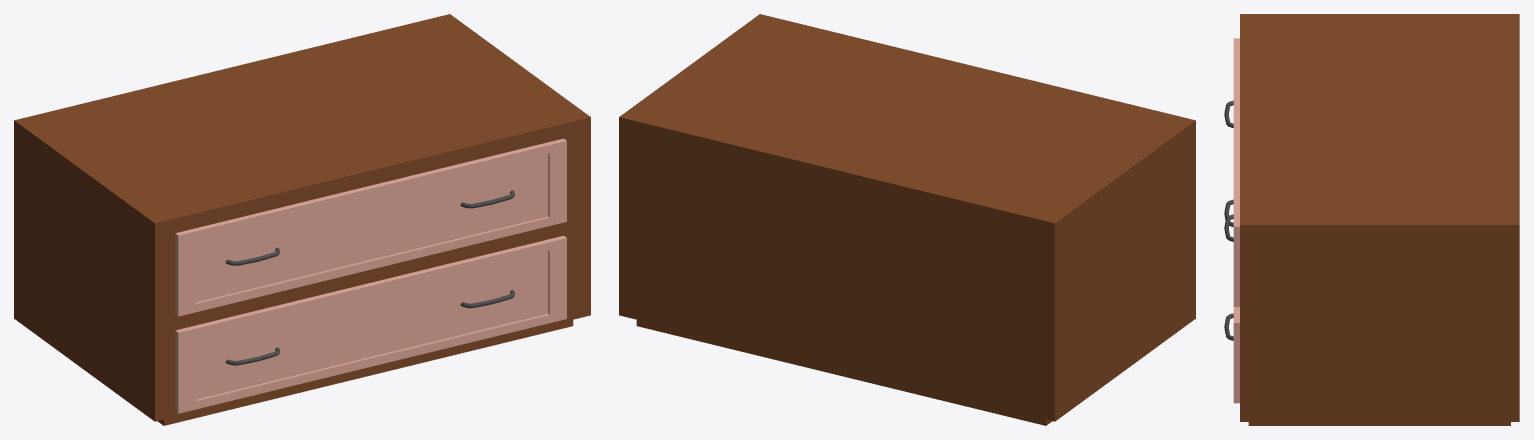
Rendered from SM_Comptoir04.fbx.
3 renders of one model, left to right at view 1: azimuth 30°, elevation 25°; view 2: azimuth 150°, elevation 25°; view 3: azimuth 270°, elevation 25°, orthographic.
Visible parts, largest first — view 1: Cube.048, Cube.053, CurlyCurve.012; view 2: Cube.048; view 3: Cube.048, Cube.053, CurlyCurve.012.
Part boxes in pixels (x1,y1,x2,y2): Cube.048: (14,14,590,425); Cube.053: (175,138,566,413); CurlyCurve.012: (225,190,514,365); Cube.048: (619,14,1195,425); Cube.048: (1240,14,1519,425); Cube.053: (1233,38,1239,403); CurlyCurve.012: (1224,100,1233,340).
Bounding box in the file's own units: 10900 × 4992 × 6443.
